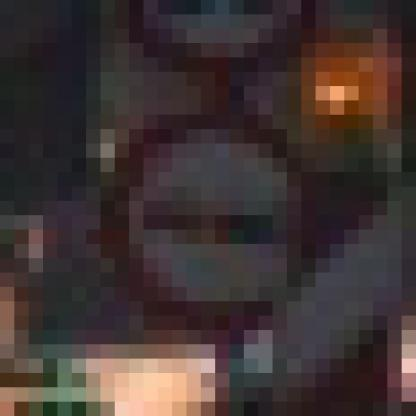No Overtaking: (73, 73, 345, 345)
